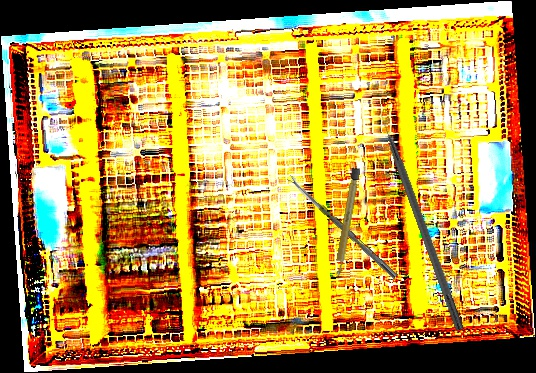Hook Surgical: (375, 105, 467, 332)
Scalpel Handle: (332, 167, 361, 278)
Surgical Spoon: (286, 173, 399, 280)
